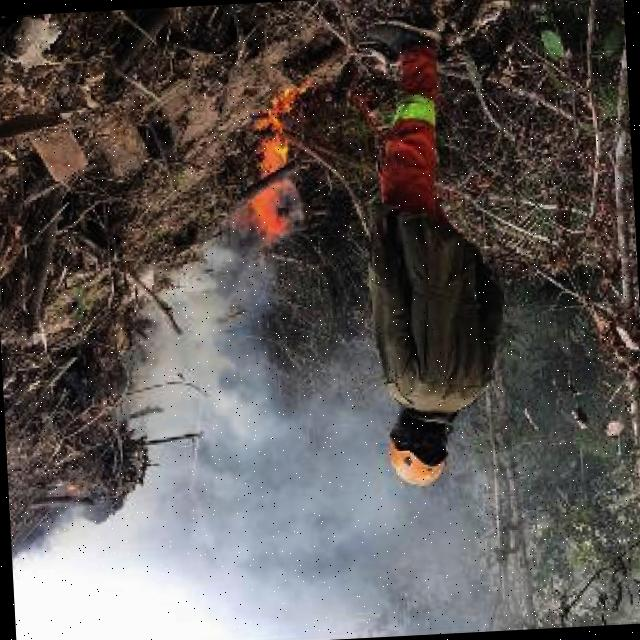fire: (124, 227, 288, 501), (236, 89, 308, 247)
